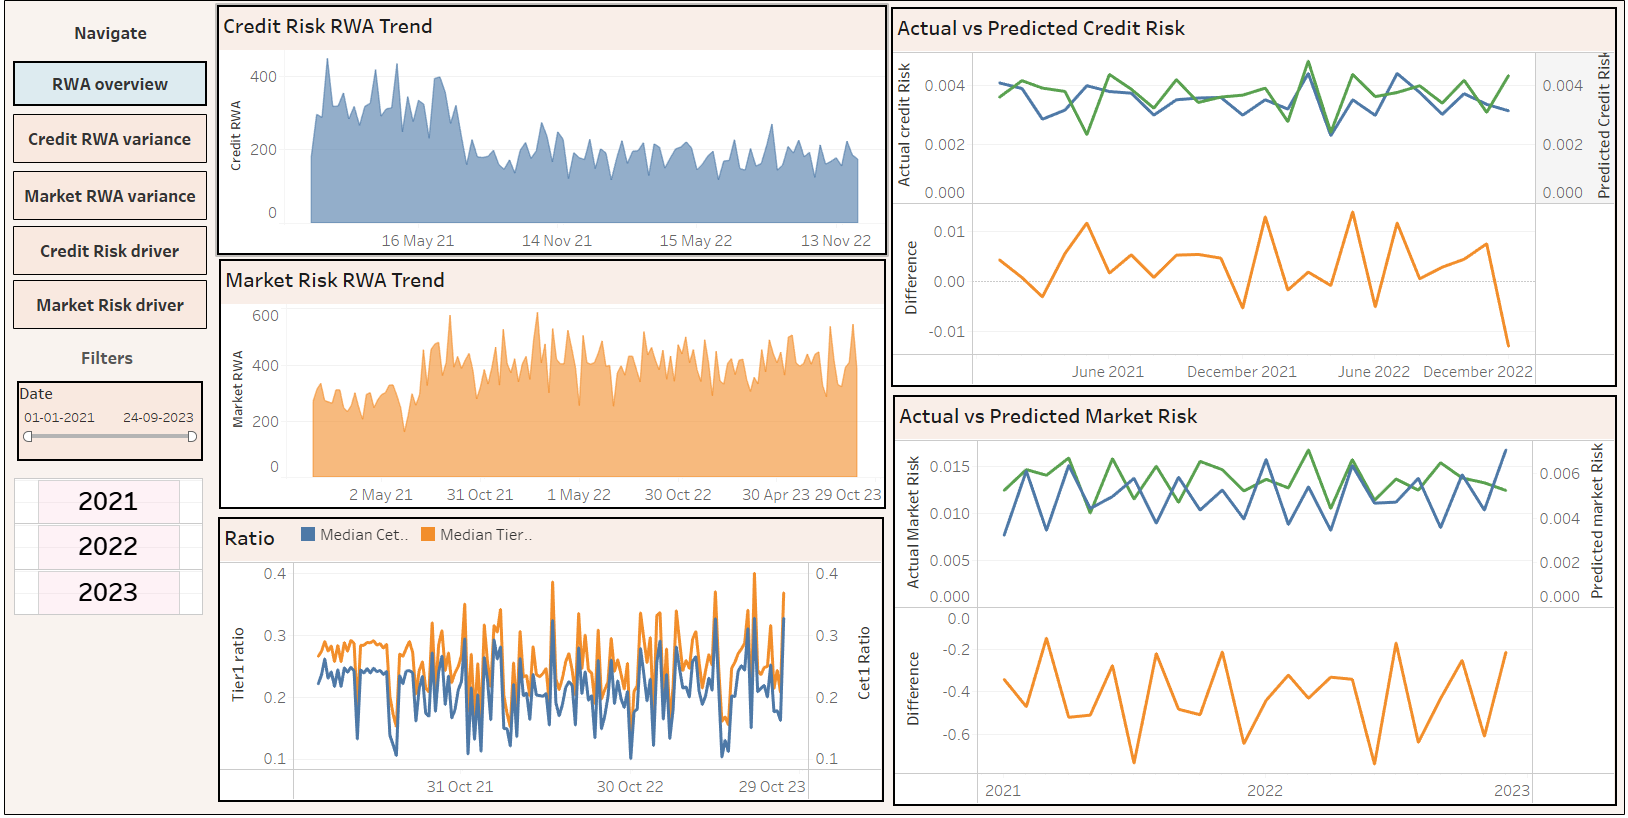

The dashboard page shown, as its layout file describes it:
{"tool":"tableau","page":{"name":"RWA overview","canvas":[1000,1000],"units":"permille","ordinal":2},"visuals":[{"type":"worksheet","title":"Sheet 1","mark":"Area","rows":["Credit RWA (millions)"],"cols":["date"],"box":[135,15.6,409.3,300.8]},{"type":"worksheet","title":"Sheet 4","mark":"Automatic","rows":["Actual credit risk","Predicted_Credit_Risk","Difference"],"cols":["date (Sheet11)"],"box":[546.7,18.1,443.5,457.3]},{"type":"text","box":[10.4,19.2,119.1,59]},{"type":"text","box":[10.4,83,118.5,54.1]},{"type":"dashboard-object","box":[10.4,146.8,118.5,59]},{"type":"dashboard-object","box":[10.4,215.4,118.5,59]},{"type":"dashboard-object","box":[10.4,281.6,118.5,59]},{"type":"worksheet","title":"Sheet 2","mark":"Area","rows":["market RWA(millions)"],"cols":["date"],"box":[136.2,321.3,407.4,300.8]},{"type":"dashboard-object","box":[10.4,346.6,118.5,59]},{"type":"text","box":[10.3,417.8,114.5,44.6]},{"type":"filter","title":"Sheet 1","param":"[federated.1azpbkn1w87z051a0ipd91t5uy5k].[none:date:qk]","box":[12.8,468.1,113.6,96.3]},{"type":"worksheet","title":"Sheet 5","mark":"Automatic","rows":["actual market risk","Predicted_market_Risk","Difference (Sheet12)"],"cols":["date (Sheet12)"],"box":[548,485,442.3,494.6]},{"type":"worksheet","title":"Sheet 15","mark":"Bar","rows":["date","Calculation_119063975733788675"],"box":[11,584.8,115.5,164.9]},{"type":"worksheet","title":"Sheet 3","mark":"Automatic","rows":["Tier1 ratio","cet1 ratio"],"cols":["date"],"box":[135.6,631.8,406.8,343]},{"type":"legend","title":"Sheet 3","param":"[federated.1azpbkn1w87z051a0ipd91t5uy5k].[:Measure Names]","box":[184.5,640.2,260.2,37.3]}]}

Visuals, with their boxes on the dashboard's canvas, which has no fixed pixel size, in thousandths of its width and height (x1, y1, x2, y2). These are canvas units, not pixel positions in the 1628x818 screenshot, which may show the page scaled, cropped or inside an application window:
"Sheet 1" worksheet (Area marks): <region>135, 16, 544, 316</region>
"Sheet 4" worksheet: <region>547, 18, 990, 475</region>
text: <region>10, 19, 130, 78</region>
text: <region>10, 83, 129, 137</region>
dashboard-object: <region>10, 147, 129, 206</region>
dashboard-object: <region>10, 215, 129, 274</region>
dashboard-object: <region>10, 282, 129, 341</region>
"Sheet 2" worksheet (Area marks): <region>136, 321, 544, 622</region>
dashboard-object: <region>10, 347, 129, 406</region>
text: <region>10, 418, 125, 462</region>
"Sheet 1" filter: <region>13, 468, 126, 564</region>
"Sheet 5" worksheet: <region>548, 485, 990, 980</region>
"Sheet 15" worksheet (Bar marks): <region>11, 585, 126, 750</region>
"Sheet 3" worksheet: <region>136, 632, 542, 975</region>
"Sheet 3" legend: <region>184, 640, 445, 678</region>
